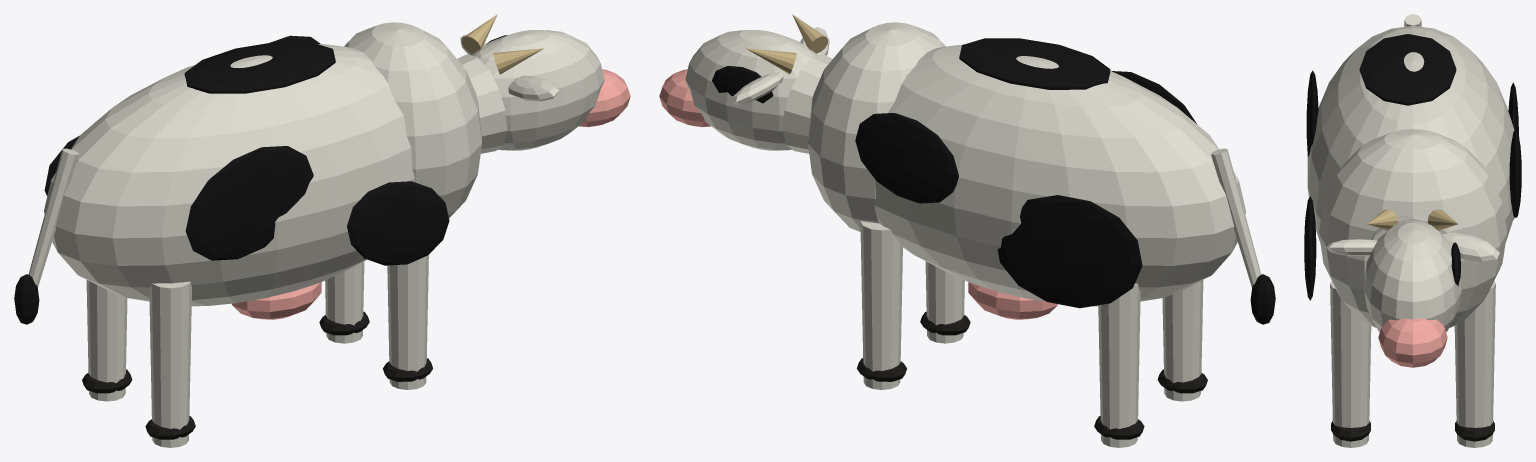
File: smooth_dairy_cow.obj
3 renders of one model, left to right at view 1: azimuth 30°, elevation 25°; view 2: azimuth 150°, elevation 25°; view 3: azimuth 270°, elevation 25°, orthographic. The views are drawn at different scales.
Parts seen in each view (by area): view 1: body, chest, black_patch_1, head, black_patch_2, cow_leg_2, black_patch_5, cow_leg_4, cow_leg_1, neck, cow_leg_3, tail (+10 smaller); view 2: body, chest, black_patch_3, head, black_patch_4, cow_leg_3, cow_leg_1, black_patch_5, cow_leg_2, neck, cow_leg_4, tail (+12 smaller); view 3: chest, body, head, black_patch_5, cow_leg_3, cow_leg_4, muzzle, black_patch_2, right_ear, black_patch_4, black_patch_1, left_ear (+7 smaller).
Boxes of the visible parts, x1,y1,x2,y2 form: body: [44, 44, 414, 306]; chest: [344, 22, 481, 217]; black_patch_1: [185, 146, 313, 260]; head: [472, 30, 604, 150]; black_patch_2: [347, 181, 449, 265]; cow_leg_2: [149, 281, 191, 447]; black_patch_5: [184, 42, 335, 93]; cow_leg_4: [387, 255, 428, 389]; cow_leg_1: [86, 280, 127, 401]; neck: [457, 54, 507, 153]; cow_leg_3: [325, 261, 364, 343]; tail: [28, 148, 78, 287]; body: [874, 44, 1245, 306]; chest: [808, 22, 945, 231]; black_patch_3: [997, 195, 1142, 308]; head: [685, 30, 817, 150]; black_patch_4: [855, 113, 958, 203]; cow_leg_3: [860, 221, 902, 389]; cow_leg_1: [1098, 283, 1140, 447]; black_patch_5: [959, 38, 1110, 89]; cow_leg_2: [1162, 280, 1203, 401]; neck: [782, 54, 832, 153]; cow_leg_4: [925, 261, 964, 343]; tail: [1211, 148, 1261, 287]; chest: [1319, 129, 1506, 327]; body: [1307, 26, 1514, 242]; head: [1364, 220, 1461, 331]; black_patch_5: [1359, 34, 1456, 105]; cow_leg_3: [1454, 281, 1495, 447]; cow_leg_4: [1330, 281, 1371, 447]; muzzle: [1378, 318, 1447, 367]; black_patch_2: [1304, 196, 1316, 300]; right_ear: [1442, 232, 1499, 262]; black_patch_4: [1509, 130, 1521, 217]; black_patch_1: [1306, 70, 1318, 156]; left_ear: [1326, 239, 1376, 256].
Size of the model in its own units: 2.79 by 1.43 by 0.8787.
